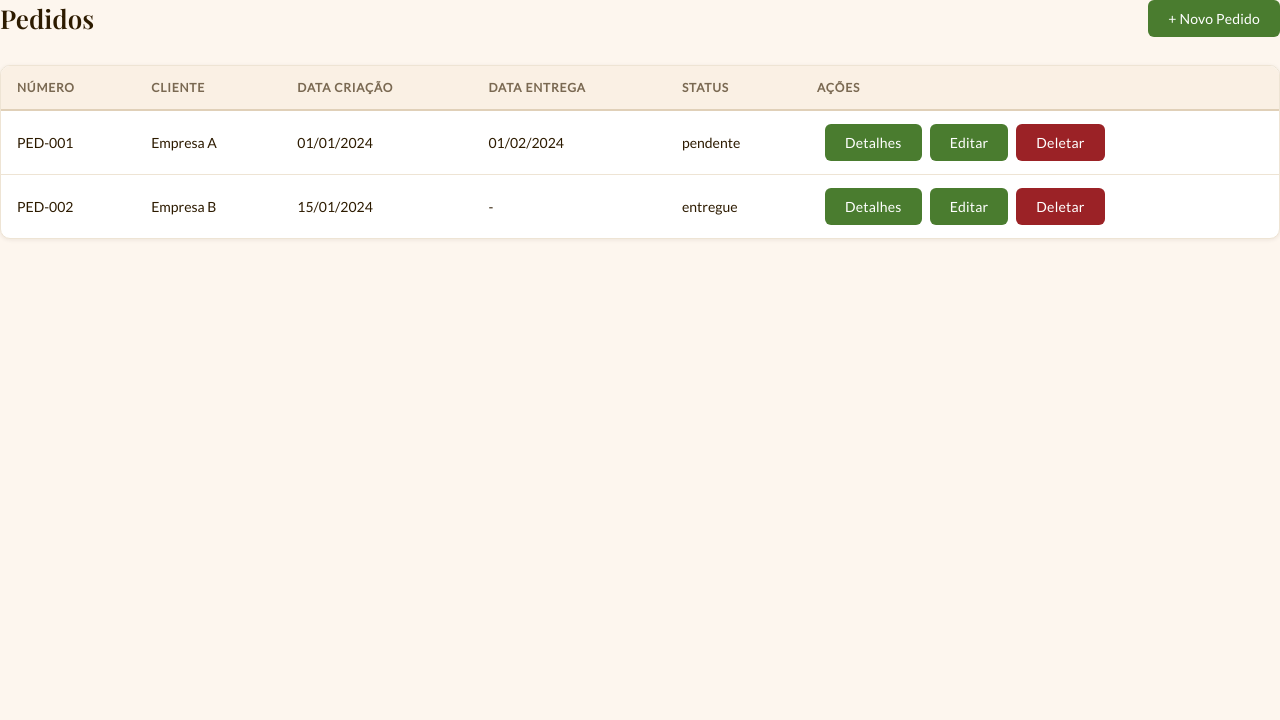
Test case: Pedidos › abre modal de edição com dados do pedido
Expected: the text "PED-001" is shown, [1, 110, 135, 174]
Click the button "Editar" in the row of "PED-001".
click(969, 142)  # box [930, 124, 1008, 161]
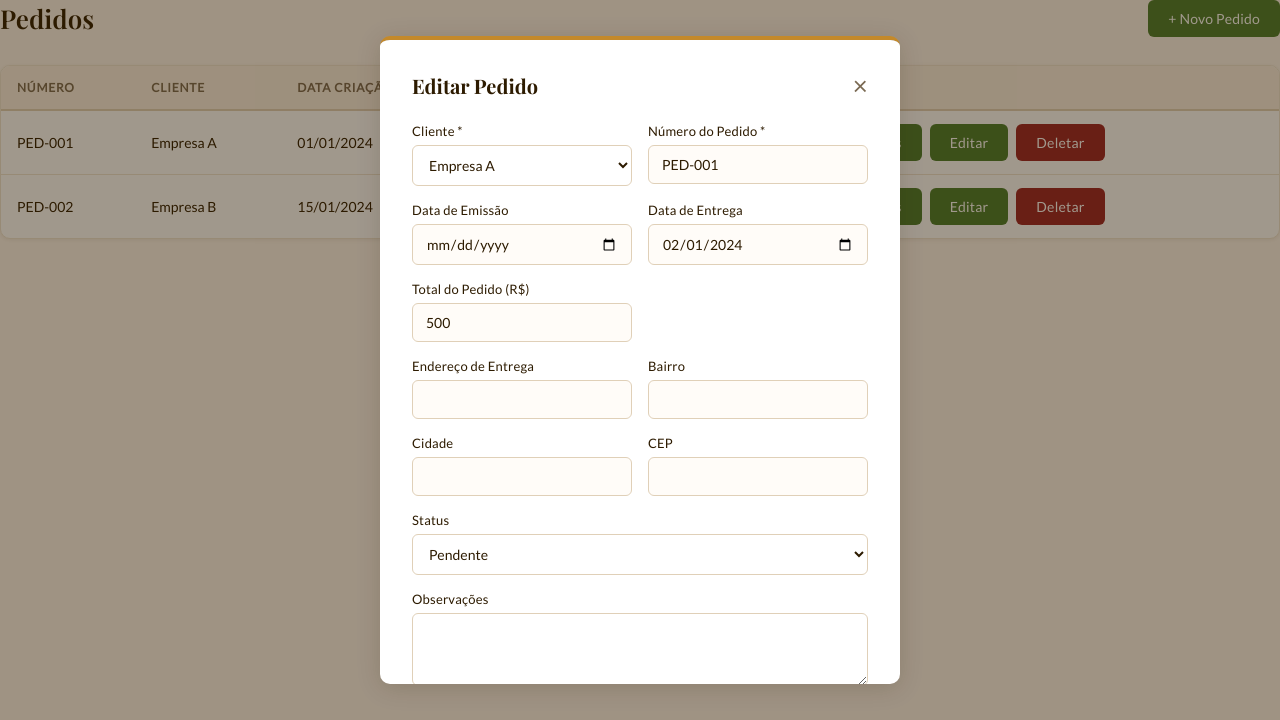
Result: the heading "Editar Pedido" is shown at [412, 72, 538, 99]
Result: the field showing "PED-001" below "Número do Pedido *" is shown at [648, 145, 868, 184]
